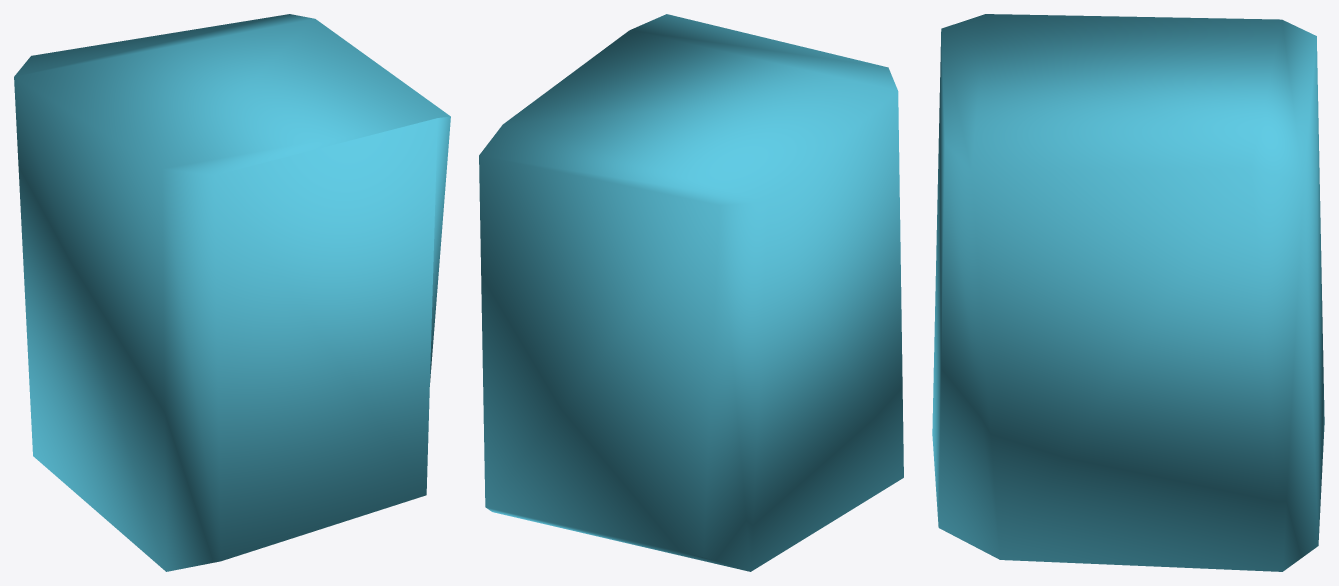
The model's file is brick_06.FBX.
3 renders of one model, left to right at view 1: azimuth 30°, elevation 25°; view 2: azimuth 150°, elevation 25°; view 3: azimuth 270°, elevation 25°, orthographic. The views are drawn at different scales.
Parts seen in each view (by area): view 1: brick_06; view 2: brick_06; view 3: brick_06.
Part boxes in pixels (left/top/right/bottom): brick_06: left=14, top=14, right=450, bottom=571; brick_06: left=479, top=14, right=903, bottom=571; brick_06: left=932, top=14, right=1324, bottom=571.
Bounding box in the file's own units: 9.89 × 13.1 × 11.
